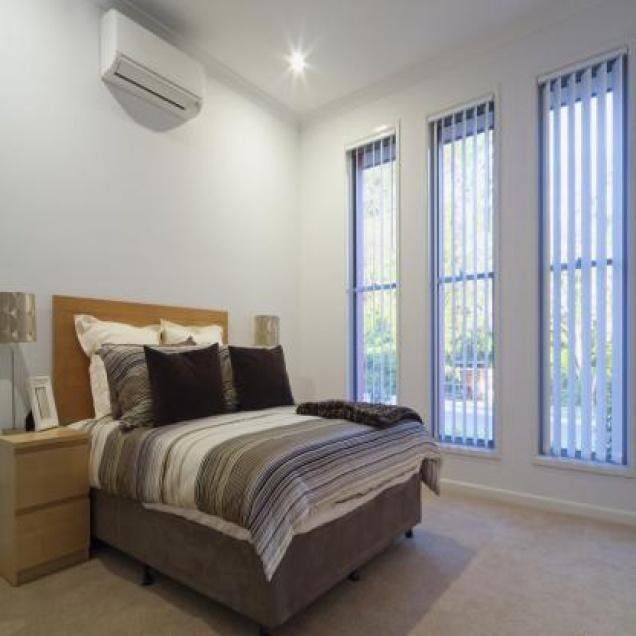AC: (98, 7, 204, 122)
